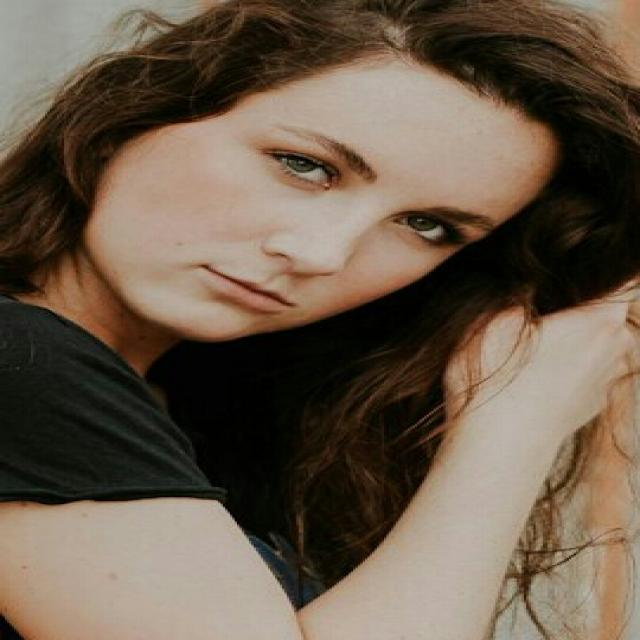front: (104, 106, 453, 345)
